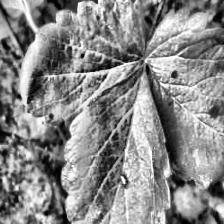Leaf Spot: (60, 61, 172, 224), (19, 0, 146, 128), (144, 6, 224, 191), (173, 182, 213, 221)
